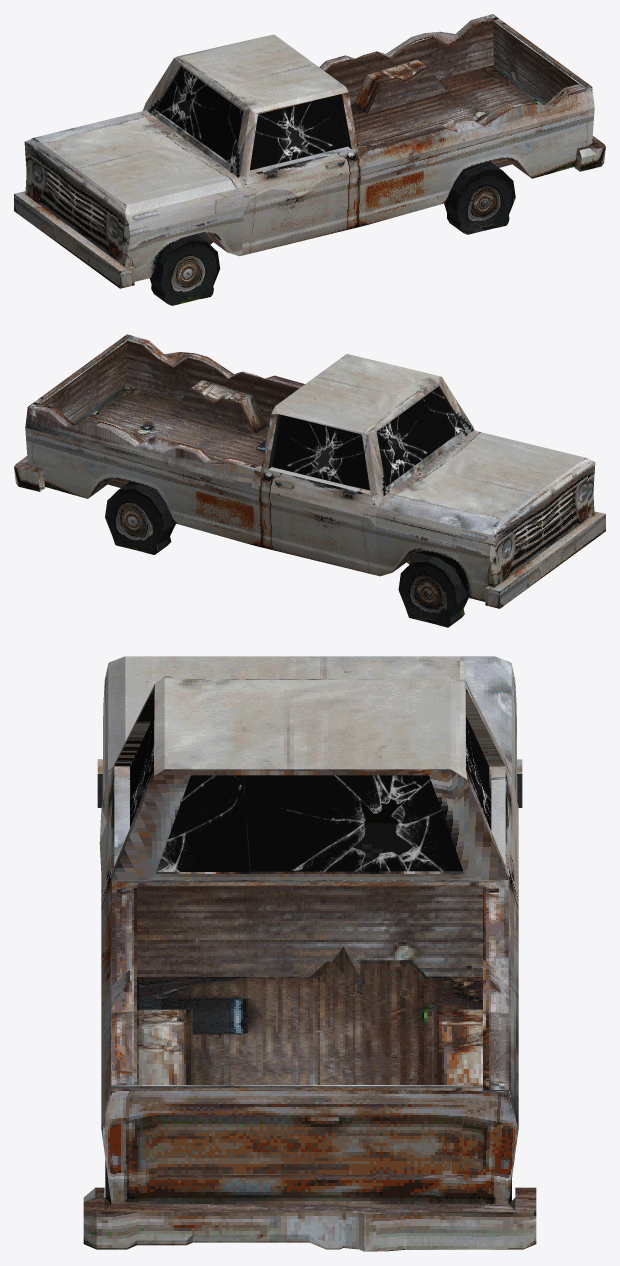
Rendered from psxlow_poly_pickup.glb.
3 views of the same model, one above another, from view 1: azimuth 30°, elevation 25°; view 2: azimuth 150°, elevation 25°; view 3: azimuth 270°, elevation 25° (orthographic). The views are drawn at different scales.
Visible parts, largest first — view 1: Cube, Cube.001, Cube.002, Cylinder.003, Cylinder.002; view 2: Cube, Cube.001, Cube.002, Cylinder.004, Cylinder.001; view 3: Cube, Cube.003, Cube.001.
Part boxes in pixels (x1,y1,x2,y2): Cube: (14,14,605,288); Cube.001: (185,84,347,170); Cube.002: (156,67,243,165); Cylinder.003: (444,161,515,234); Cylinder.002: (149,234,220,305); Cube: (14,334,605,608); Cube.001: (272,415,369,490); Cube.002: (376,387,462,486); Cylinder.004: (105,481,175,554); Cylinder.001: (398,554,468,627); Cube: (83,656,536,1251); Cube.003: (157,775,462,871); Cube.001: (130,716,490,829).
Bounding box in the file's own units: 41.54 × 13.34 × 16.74.
Materials: 3 (3 with a texture image).
